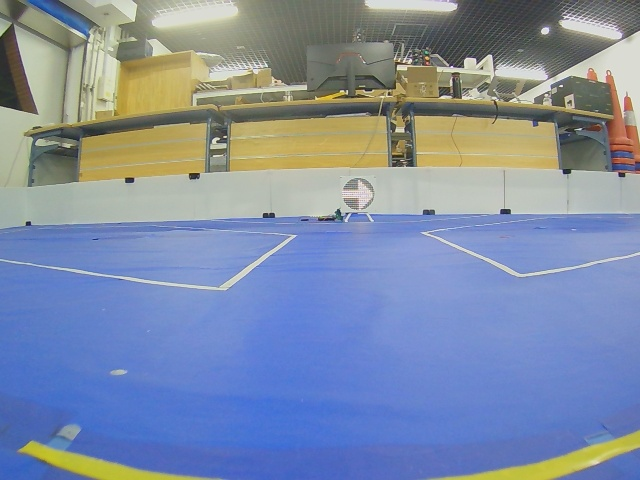right_yellow: (341, 178, 375, 211)
